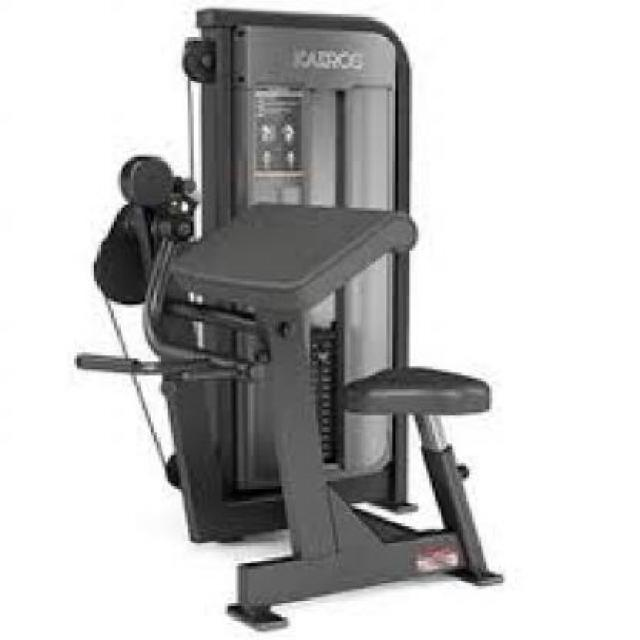arm curl machine: (82, 9, 506, 634)
